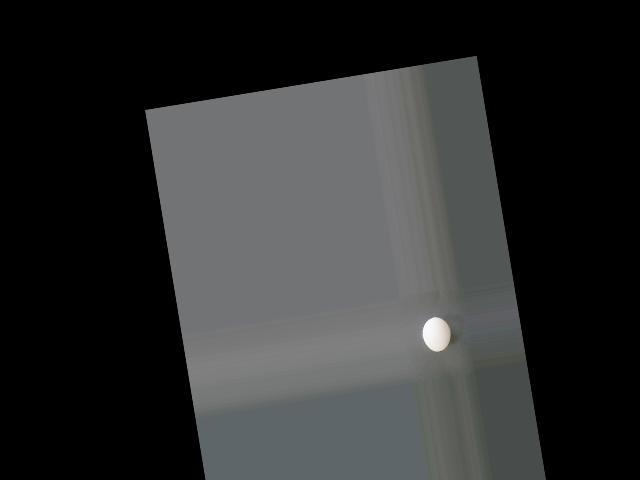egg: (420, 316, 453, 354)
